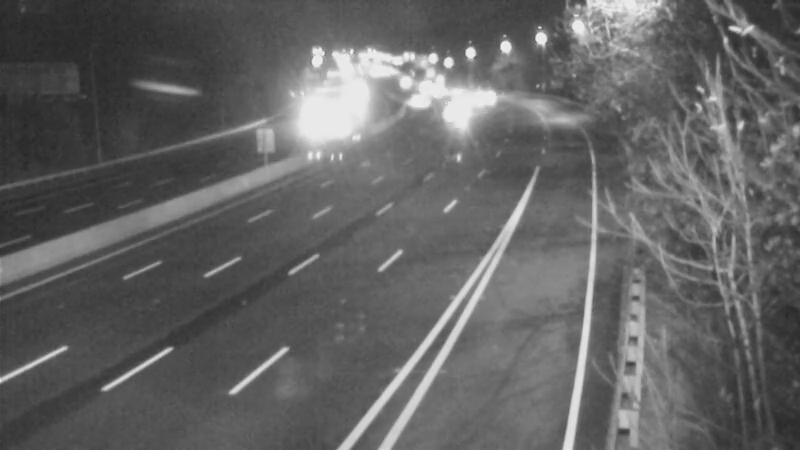vehicle: (394, 76, 444, 126), (456, 73, 506, 123), (425, 86, 475, 136)
